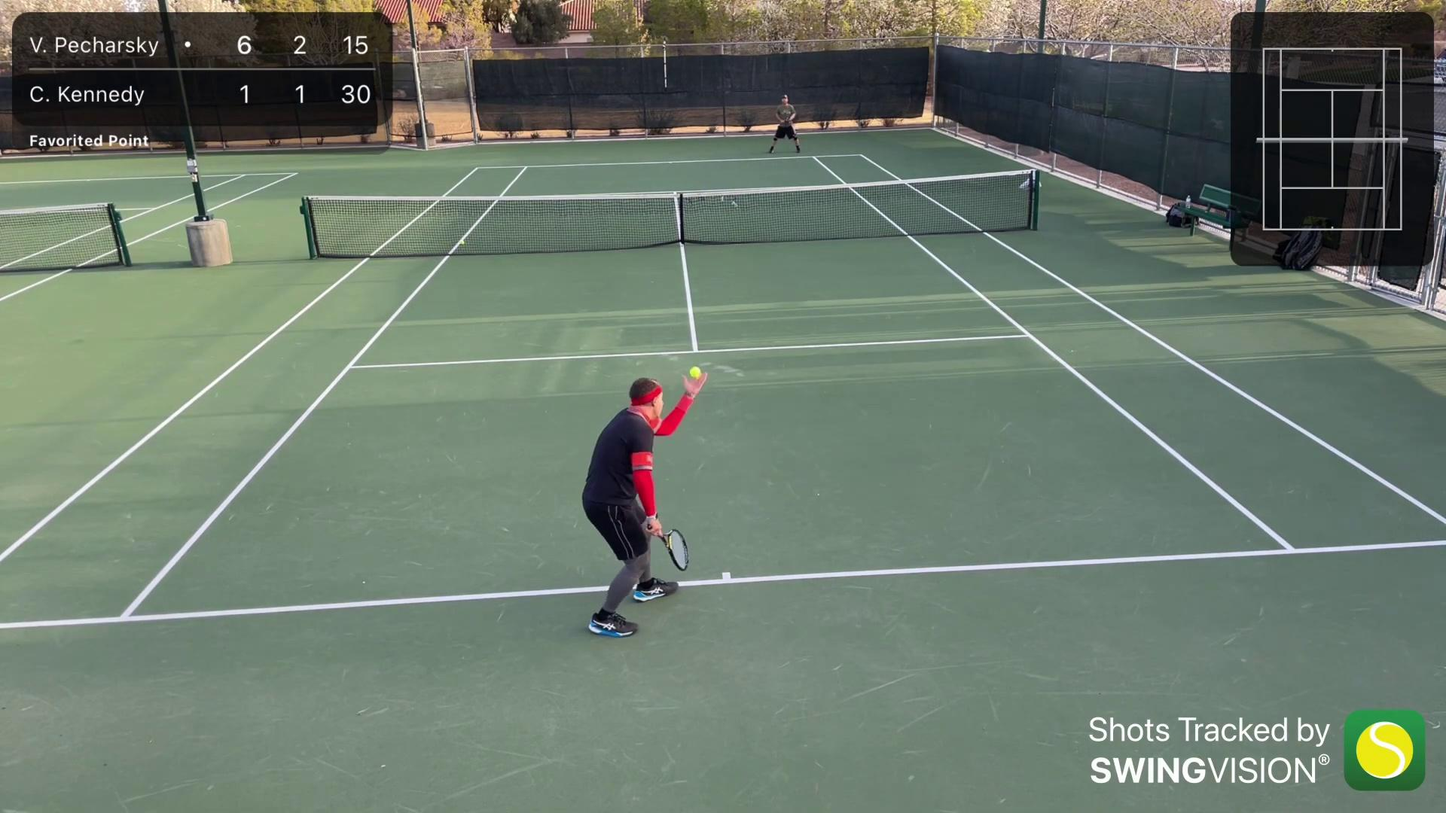ball: (687, 366, 705, 379)
